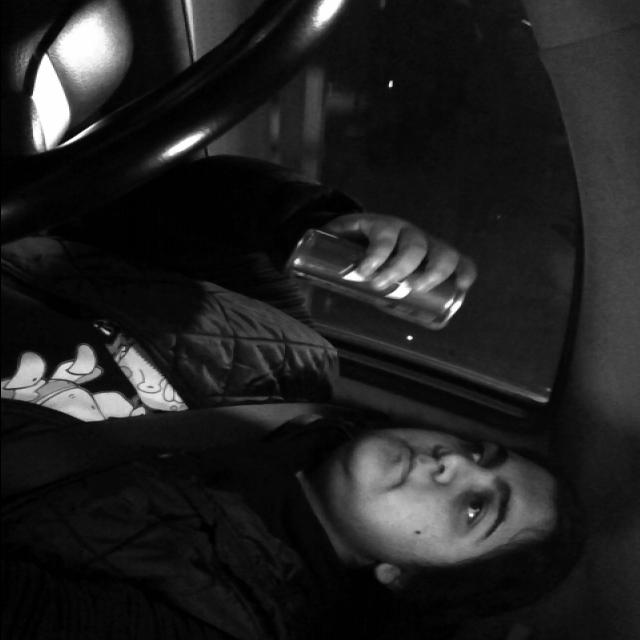drinking: (282, 218, 476, 332)
